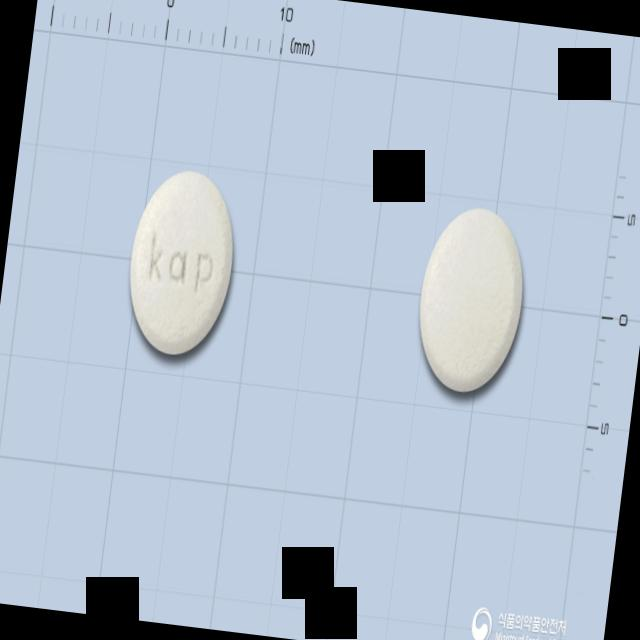Lebofacin: (118, 162, 244, 362)
